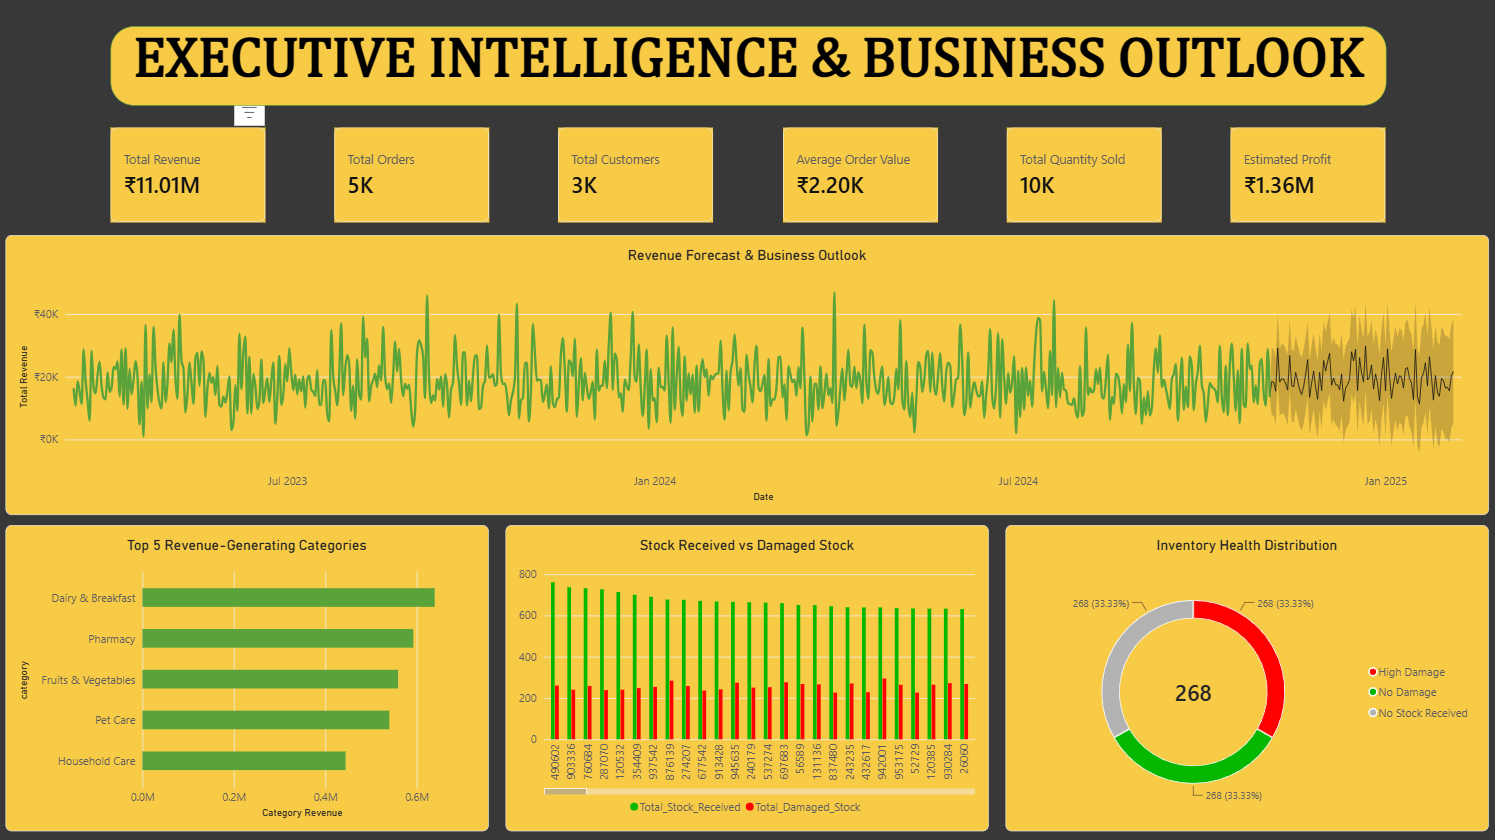

What the dashboard file says about the page in this screenshot:
{"tool":"powerbi","page":{"name":"BUSINESS INTELLIGENCE","canvas":[1920,1080],"ordinal":10},"visuals":[{"type":"cardVisual","fields":{"Data":["blinkit_orders.Total Revenue"]},"box":[143.6,163.8,198.8,121.5],"z":0},{"type":"textbox","box":[143.7,33.1,1632.5,101.2],"z":1000},{"type":"cardVisual","fields":{"Data":["blinkit_orders.Total Orders"]},"box":[430.3,163.8,198.8,121.5],"z":2000},{"type":"cardVisual","fields":{"Data":["blinkit_customers.Total Customers"]},"box":[717.1,163.8,198.8,121.5],"z":3000},{"type":"cardVisual","fields":{"Data":["blinkit_orders.Average Order Value"]},"box":[1003.8,163.8,198.8,121.5],"z":4000},{"type":"cardVisual","fields":{"Data":["blinkit_order_items.Total Quantity Sold"]},"box":[1290.6,163.8,198.8,121.5],"z":4001},{"type":"cardVisual","fields":{"Data":["blinkit_order_items.Estimated Profit"]},"box":[1577.3,163.8,198.8,121.5],"z":4002},{"type":"lineChart","title":"Revenue Forecast & Business Outlook","fields":{"Category":["DateTable.Date"],"Y":["blinkit_orders.Total Revenue"]},"box":[10,300,1898,358],"z":4003},{"type":"clusteredBarChart","title":"Top 5 Revenue-Generating Categories","fields":{"Category":["blinkit_products.category"],"Y":["blinkit_order_items.Category Revenue"]},"box":[10,672,618,392],"z":4004},{"type":"clusteredColumnChart","title":"Stock Received vs Damaged Stock","fields":{"Category":["blinkit_inventory.product_id"],"Y":["blinkit_inventory.Total_Stock_Received","blinkit_inventory.Total_Damaged_Stock"]},"box":[650,672,618,392],"z":4005},{"type":"donutChart","title":"Inventory Health Distribution","fields":{"Category":["blinkit_inventory.Stock Status"],"Y":["blinkit_inventory.Inventory Product Count"]},"box":[1290,672,618,392],"z":4006}]}

Visuals, with their boxes in screenshot pixels (x1, y1, x2, y2), scaled from the page's 1920x1080 canvas onto the 1495x840 screenshot:
cardVisual - blinkit_orders.Total Revenue: {"x1": 112, "y1": 127, "x2": 267, "y2": 222}
textbox: {"x1": 112, "y1": 26, "x2": 1383, "y2": 104}
cardVisual - blinkit_orders.Total Orders: {"x1": 335, "y1": 127, "x2": 490, "y2": 222}
cardVisual - blinkit_customers.Total Customers: {"x1": 558, "y1": 127, "x2": 713, "y2": 222}
cardVisual - blinkit_orders.Average Order Value: {"x1": 782, "y1": 127, "x2": 936, "y2": 222}
cardVisual - blinkit_order_items.Total Quantity Sold: {"x1": 1005, "y1": 127, "x2": 1160, "y2": 222}
cardVisual - blinkit_order_items.Estimated Profit: {"x1": 1228, "y1": 127, "x2": 1383, "y2": 222}
"Revenue Forecast & Business Outlook" lineChart: {"x1": 8, "y1": 233, "x2": 1486, "y2": 512}
"Top 5 Revenue-Generating Categories" clusteredBarChart: {"x1": 8, "y1": 523, "x2": 489, "y2": 828}
"Stock Received vs Damaged Stock" clusteredColumnChart: {"x1": 506, "y1": 523, "x2": 987, "y2": 828}
"Inventory Health Distribution" donutChart: {"x1": 1004, "y1": 523, "x2": 1486, "y2": 828}
